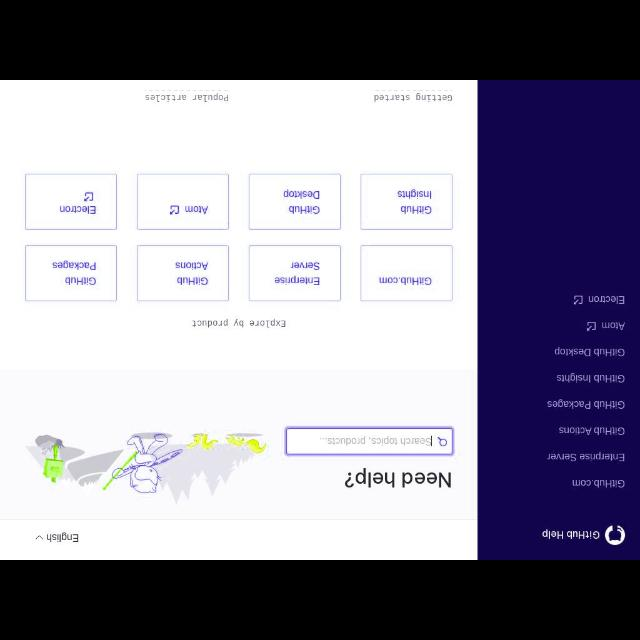icon: (573, 294, 583, 306), (84, 192, 95, 202), (586, 322, 596, 332), (437, 436, 447, 446), (169, 204, 179, 214), (34, 534, 44, 540)
image: (26, 431, 262, 505), (605, 525, 625, 545)
input: (286, 431, 452, 454)
spinner: (34, 533, 80, 543)
text: (344, 470, 452, 488), (319, 434, 431, 448), (52, 259, 96, 285), (282, 189, 320, 217), (276, 262, 320, 286), (192, 318, 286, 328), (396, 189, 432, 215), (175, 261, 209, 287), (554, 346, 626, 358), (547, 398, 625, 409), (555, 372, 625, 384), (546, 452, 626, 462), (542, 528, 600, 540), (559, 425, 625, 435), (373, 94, 453, 102), (572, 478, 624, 490), (587, 292, 625, 308), (378, 276, 432, 286), (144, 94, 230, 100), (59, 204, 97, 216), (46, 533, 80, 543), (184, 203, 210, 215), (602, 321, 626, 332)
textbutton: (248, 245, 340, 301), (136, 245, 228, 301), (361, 174, 451, 230), (138, 174, 228, 230), (360, 246, 452, 300), (24, 176, 116, 230), (248, 175, 339, 229), (26, 246, 116, 300)
